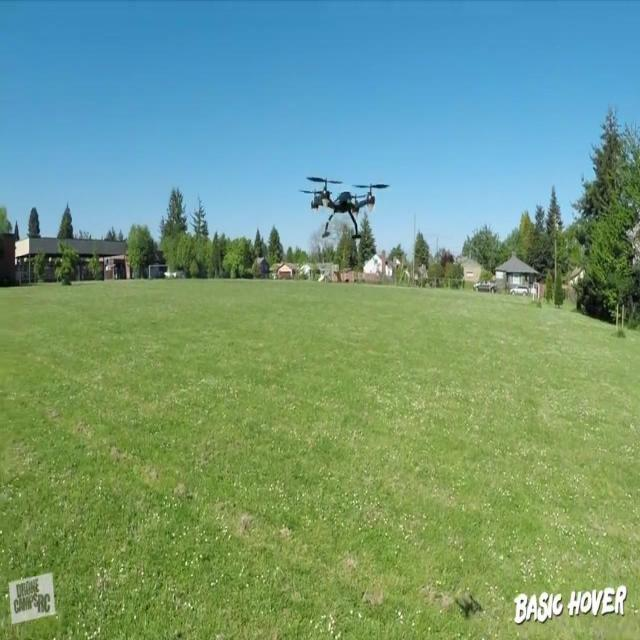UAV: (298, 177, 390, 238)
